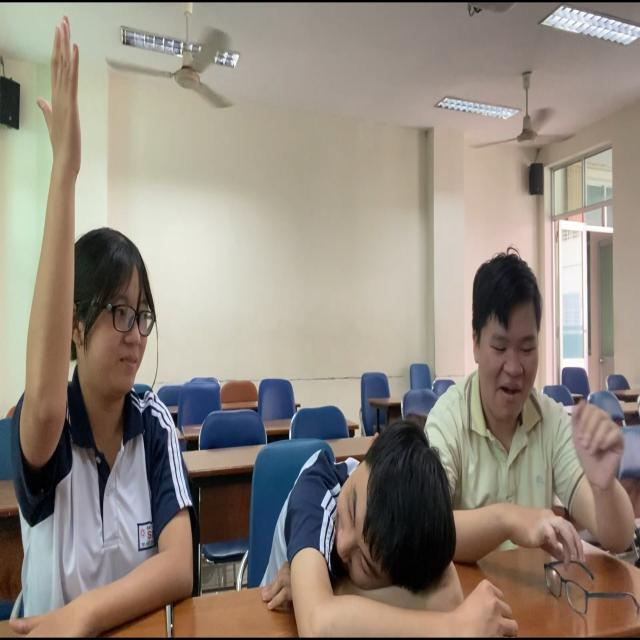raise_hand: (1, 18, 158, 619)
sleep: (258, 436, 521, 640)
